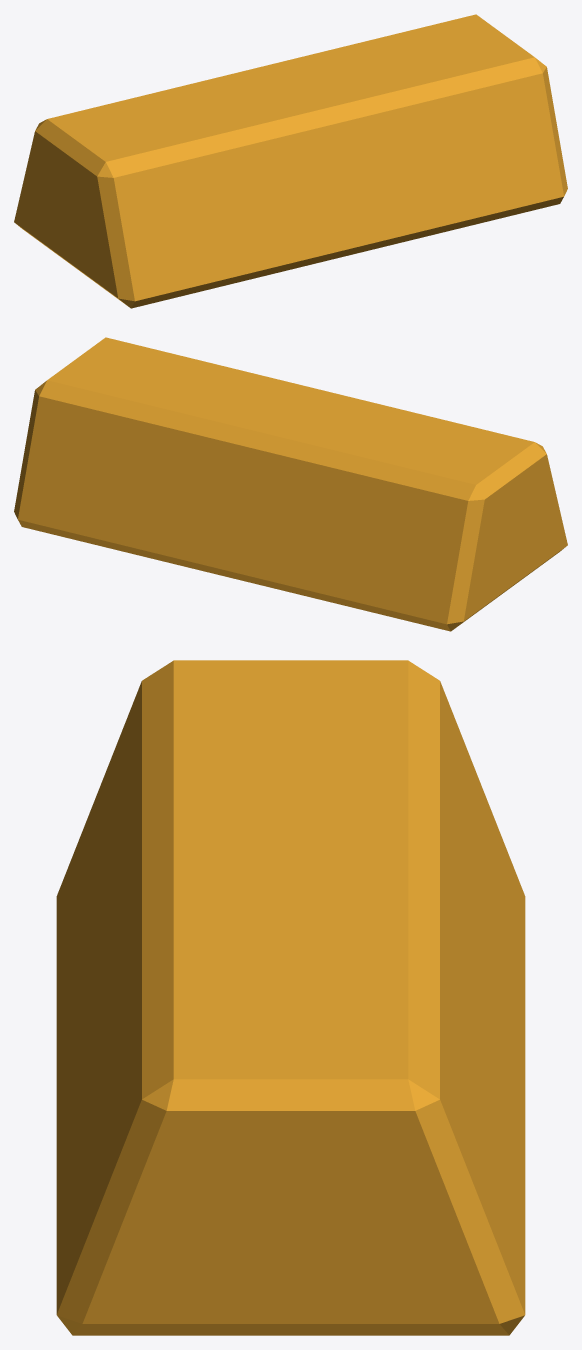
The model's file is Gold Bar.glb.
The picture shows the model from 3 angles, top to bottom: view 1: azimuth 30°, elevation 25°; view 2: azimuth 150°, elevation 25°; view 3: azimuth 270°, elevation 25°; orthographic projection. The views are drawn at different scales.
Parts seen in each view (by area): view 1: Gold Bar; view 2: Gold Bar; view 3: Gold Bar.
Part boxes in pixels (x1,y1,x2,y2): Gold Bar: (14, 14, 567, 308); Gold Bar: (14, 337, 567, 631); Gold Bar: (56, 660, 525, 1335).
Bounding box in the file's own units: 26.36 × 7.18 × 11.89.
